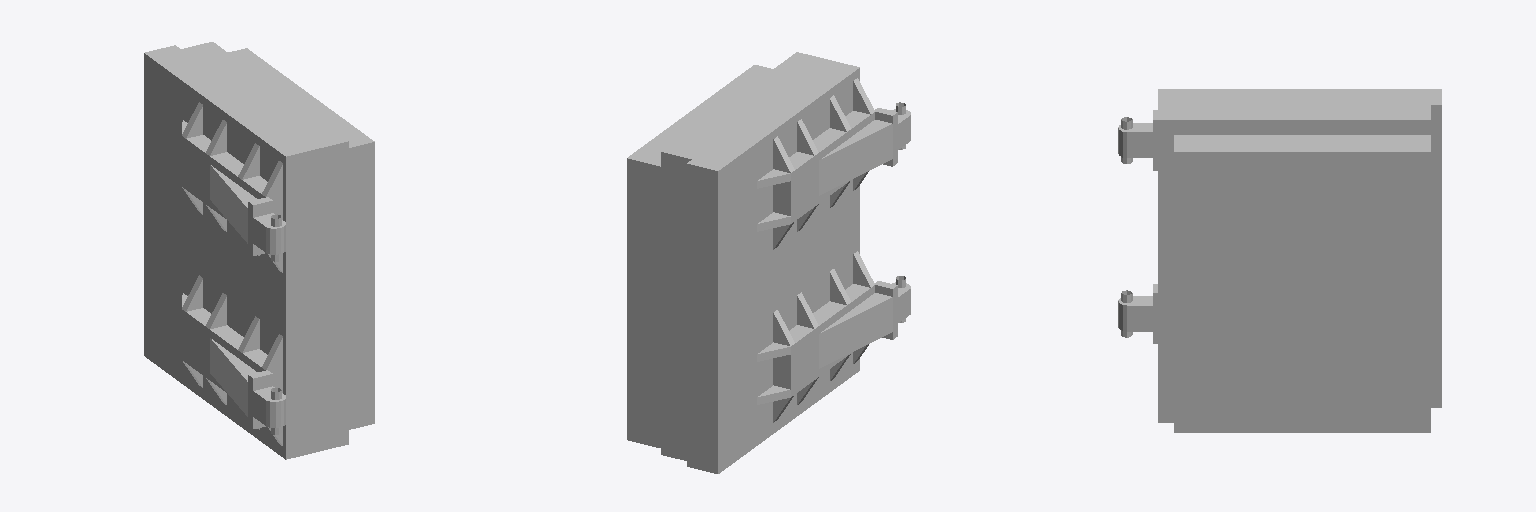
File: BunkerDoorA.obj
The picture shows the model from 3 angles: view 1: azimuth 30°, elevation 25°; view 2: azimuth 150°, elevation 25°; view 3: azimuth 270°, elevation 25°; orthographic projection.
Parts seen in each view (by area): view 1: Hermetic_Door_1_Cube.045; view 2: Hermetic_Door_1_Cube.045; view 3: Hermetic_Door_1_Cube.045.
Boxes of the visible parts, x1=… form: Hermetic_Door_1_Cube.045: x1=144, y1=42, x2=374, y2=459; Hermetic_Door_1_Cube.045: x1=627, y1=52, x2=910, y2=473; Hermetic_Door_1_Cube.045: x1=1118, y1=89, x2=1441, y2=432.
Bounding box in the file's own units: 1.62 × 3.54 × 3.42.